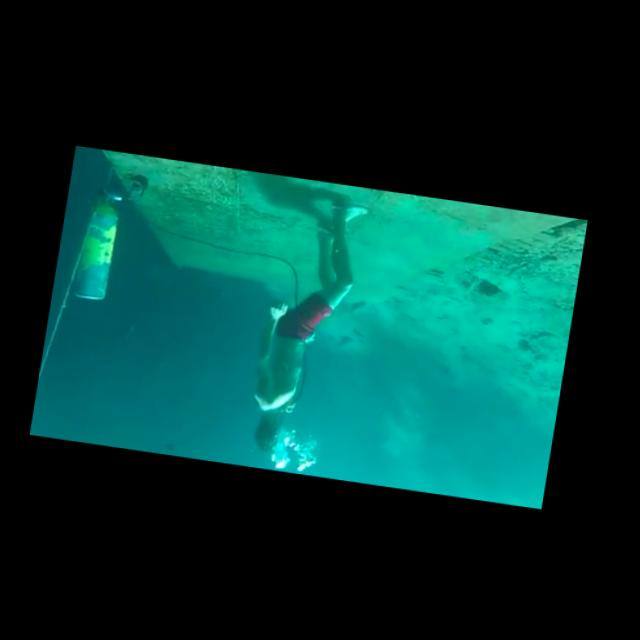human: (237, 186, 372, 464)
